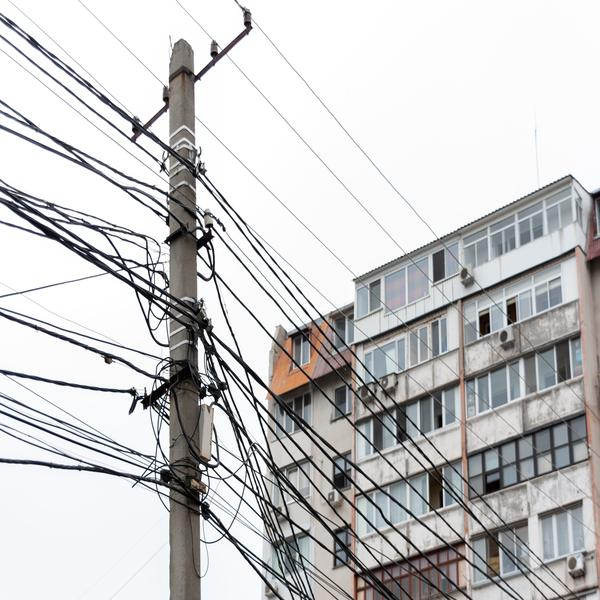utility_pole: (111, 1, 265, 517)
